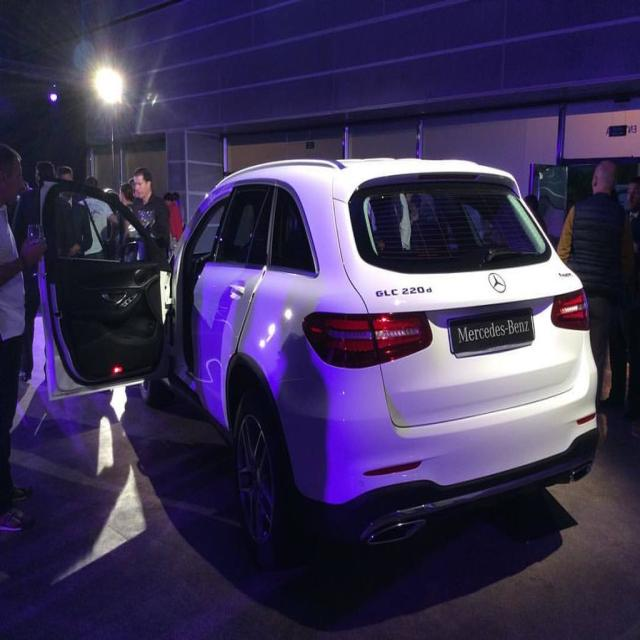car: (138, 141, 596, 565)
